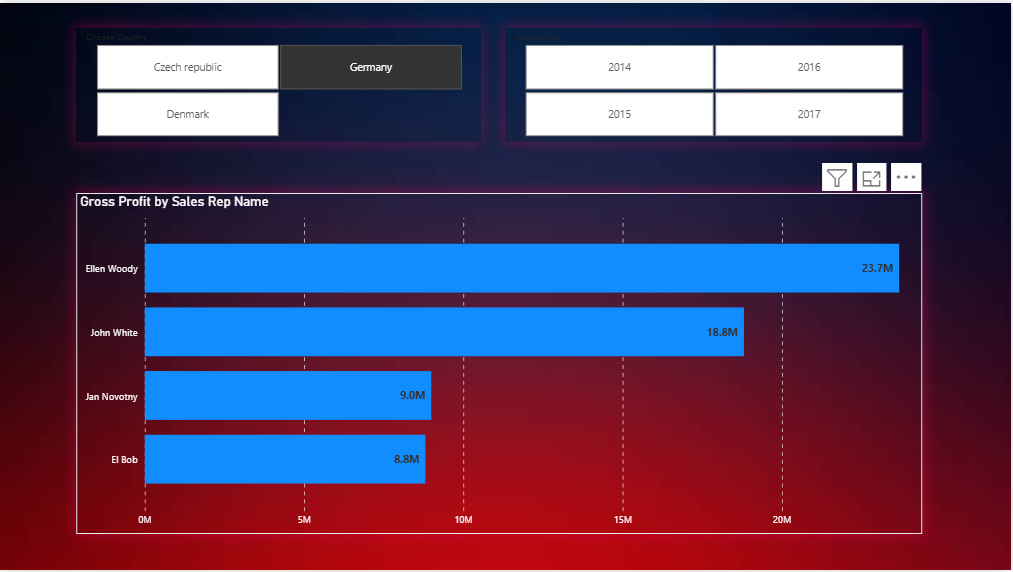

This screenshot's page, from the dashboard's own definition file:
{"tool":"powerbi","page":{"name":"Top Sales Reprensative","canvas":[1280,720],"ordinal":4},"visuals":[{"type":"barChart","fields":{"Y":["FactSales.Gross Profit"],"Category":["DimSalesRep.Sales Rep Name"]},"box":[96,240,1072,432],"z":0},{"type":"slicer","fields":{"Values":["DimGeography.Country"]},"box":[96,32,512,144],"z":1000},{"type":"slicer","fields":{"Values":["CalenderMaster.Date.Variation.Date Hierarchy.Year"]},"box":[640,32,528,144],"z":2000}]}

Visuals, with their boxes in screenshot pixels (x1, y1, x2, y2), scaled from the page's 1280x720 canvas onto the 1013x572 screenshot:
barChart - FactSales.Gross Profit x DimSalesRep.Sales Rep Name: bbox=(76, 191, 924, 534)
slicer - DimGeography.Country: bbox=(76, 25, 481, 140)
slicer - CalenderMaster.Date.Variation.Date Hierarchy.Year: bbox=(506, 25, 924, 140)
